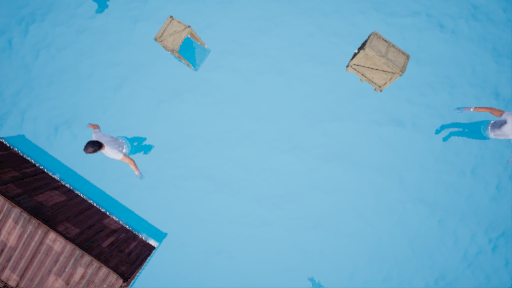person: (79, 124, 160, 176)
